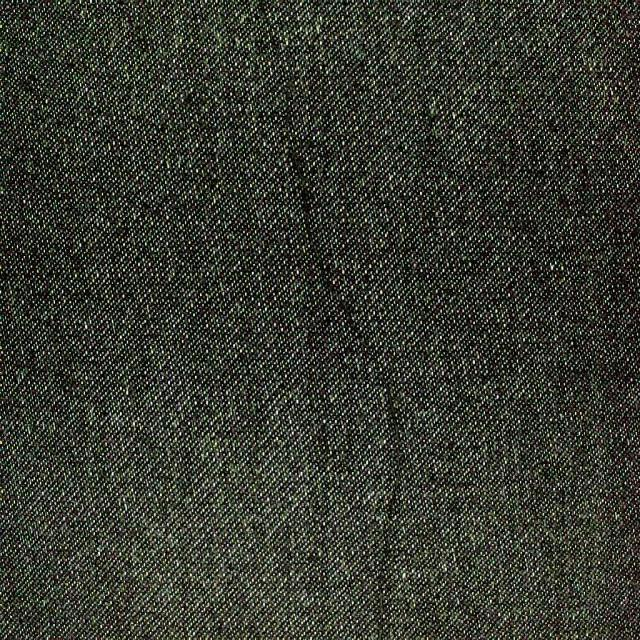defect: (285, 143, 419, 640)
